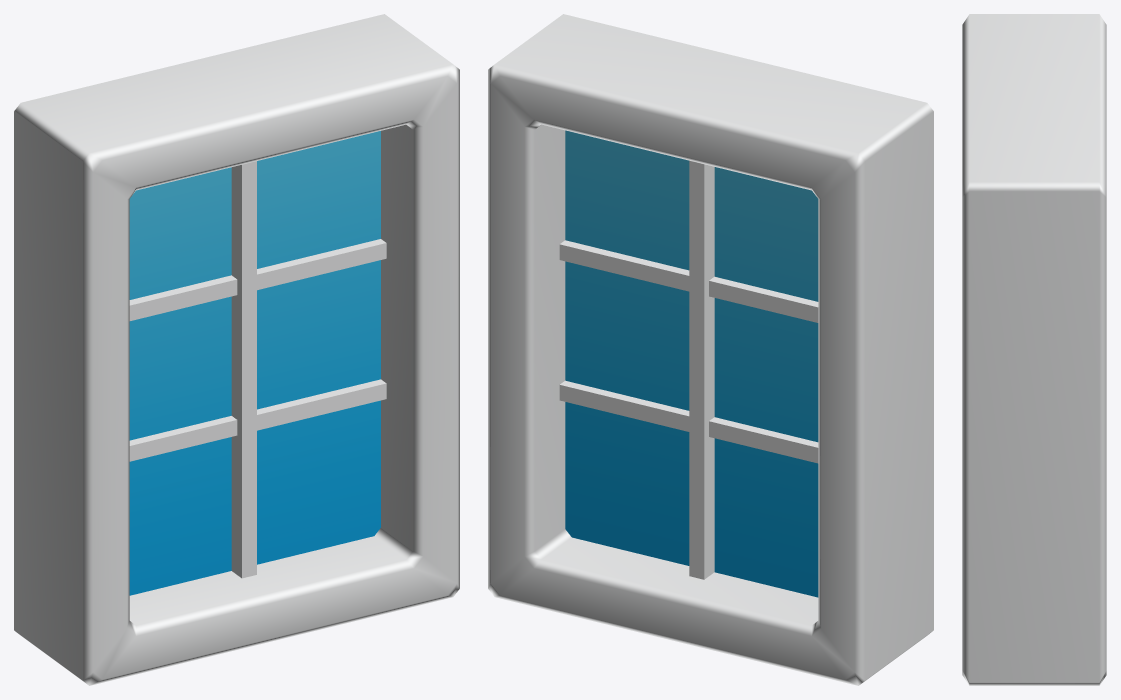
The model's file is Window_White_13.glb.
3 views of the same model, side by side, from view 1: azimuth 30°, elevation 25°; view 2: azimuth 150°, elevation 25°; view 3: azimuth 270°, elevation 25° (orthographic). The views are drawn at different scales.
Visible parts, largest first — view 1: Window_White_13; view 2: Window_White_13; view 3: Window_White_13.
Boxes of the visible parts, x1=… form: Window_White_13: x1=14, y1=14, x2=459, y2=685; Window_White_13: x1=488, y1=14, x2=933, y2=685; Window_White_13: x1=962, y1=14, x2=1106, y2=685.
Size of the model in its own units: 1.14 by 1.54 by 0.4.
Materials: 2 (2 with a texture image).
